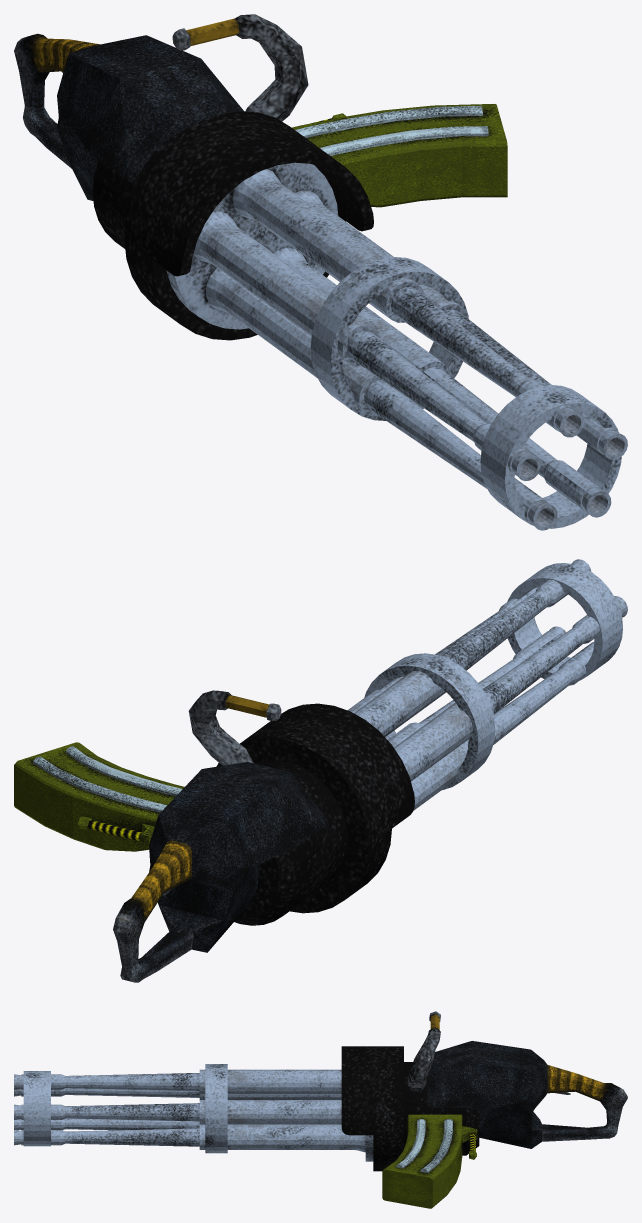
File: Mini-GunV1.1.fbx
3 renders of one model, top to bottom at view 1: azimuth 30°, elevation 25°; view 2: azimuth 150°, elevation 25°; view 3: azimuth 270°, elevation 25°, orthographic. The views are drawn at different scales.
Visible parts, largest first — view 1: Barrel, Base, Handle, AmmoClip; view 2: Barrel, Base, Handle, AmmoClip; view 3: Barrel, Handle, Base, AmmoClip.
Boxes of the visible parts, left/top/right/bottom form: Barrel: left=166, top=162, right=627, bottom=530; Base: left=92, top=14, right=373, bottom=340; Handle: left=14, top=33, right=243, bottom=201; AmmoClip: left=292, top=104, right=507, bottom=207; Barrel: left=347, top=559, right=627, bottom=810; Base: left=188, top=690, right=414, bottom=925; Handle: left=113, top=762, right=329, bottom=982; AmmoClip: left=14, top=742, right=184, bottom=851; Barrel: left=14, top=1064, right=373, bottom=1161; Handle: left=427, top=1041, right=627, bottom=1148; Base: left=341, top=1011, right=479, bottom=1171; AmmoClip: left=382, top=1114, right=477, bottom=1208.
Bounding box in the file's own units: 408 × 266 × 982.
4 materials, 4 textured.
